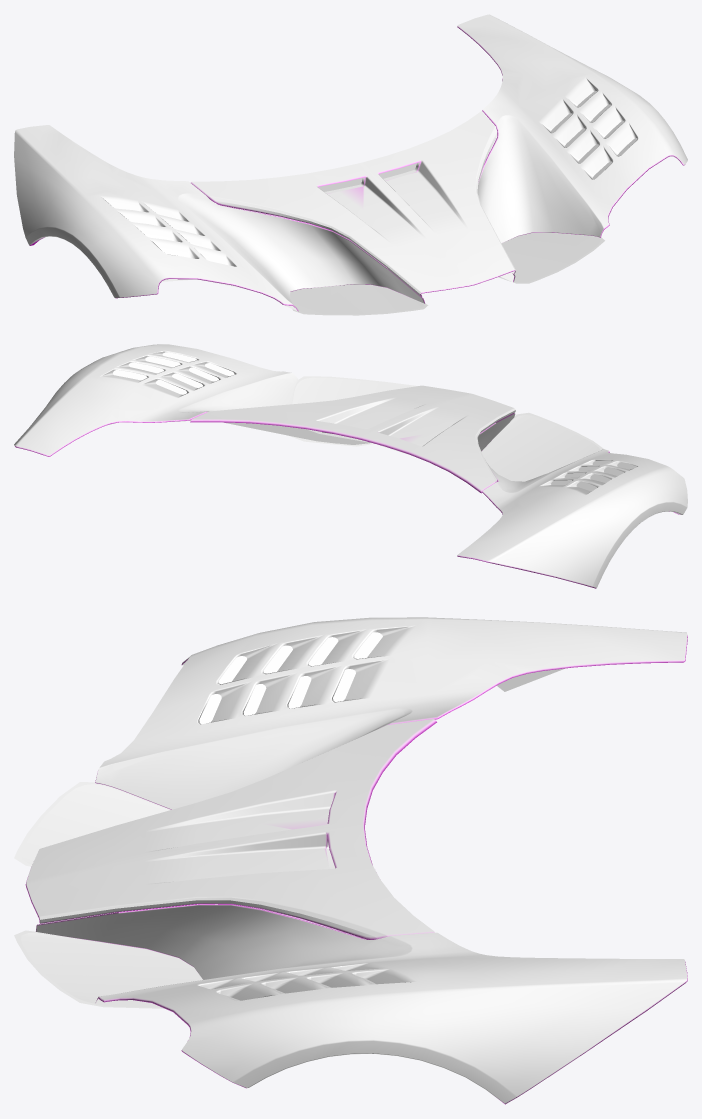
File: Car_Ford_GT_2017_Hood_SetN.fbx
3 views of the same model, one above another, from view 1: azimuth 30°, elevation 25°; view 2: azimuth 150°, elevation 25°; view 3: azimuth 270°, elevation 25° (orthographic). The views are drawn at different scales.
Visible parts, largest first — view 1: Hood 6; view 2: Hood 6; view 3: Hood 6.
Part boxes in pixels (x1,y1,x2,y2): Hood 6: (14,14,687,315); Hood 6: (14,344,687,588); Hood 6: (14,617,687,1104).
Size of the model in its own units: 1.96 by 0.2591 by 1.33.
